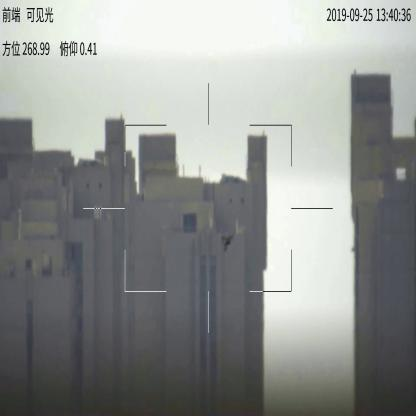uav: (221, 231, 239, 252)
